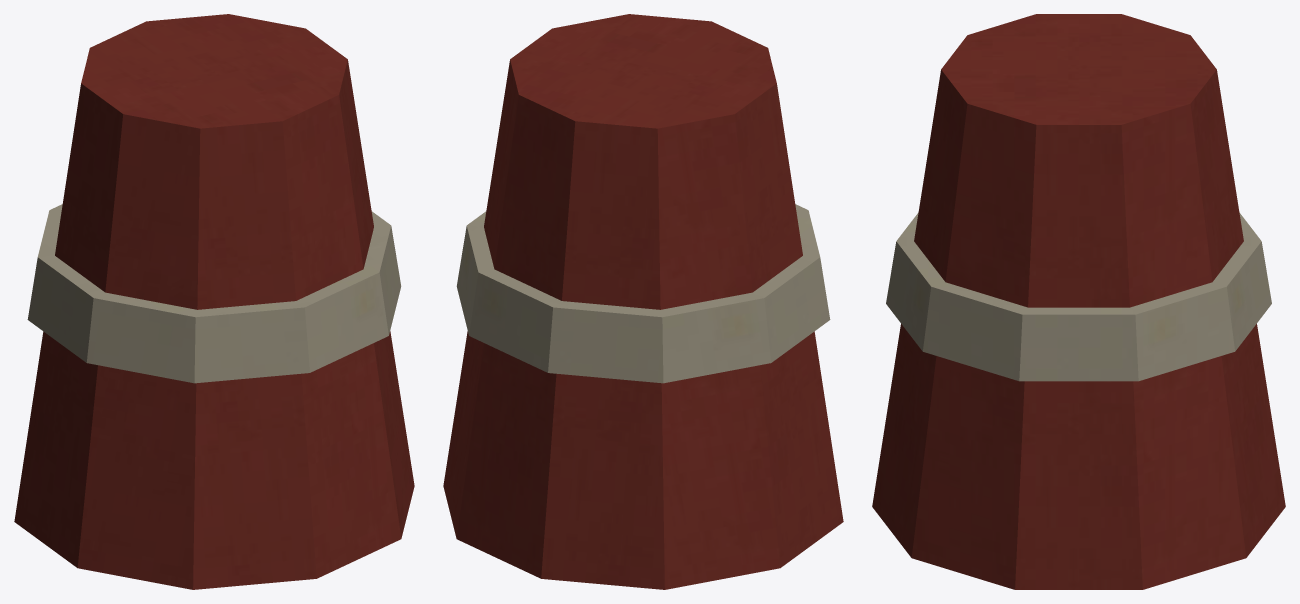
The model's file is buoy_01.glb.
3 renders of one model, left to right at view 1: azimuth 30°, elevation 25°; view 2: azimuth 150°, elevation 25°; view 3: azimuth 270°, elevation 25°, orthographic.
Visible parts, largest first — view 1: buoy_01; view 2: buoy_01; view 3: buoy_01.
Boxes of the visible parts, box(x1,y1,x2,y2) form: buoy_01: box(14, 14, 414, 589); buoy_01: box(443, 14, 843, 589); buoy_01: box(872, 14, 1285, 589).
Bounding box in the file's own units: 1.14 × 1.4 × 1.2.
2 materials, 2 textured.
